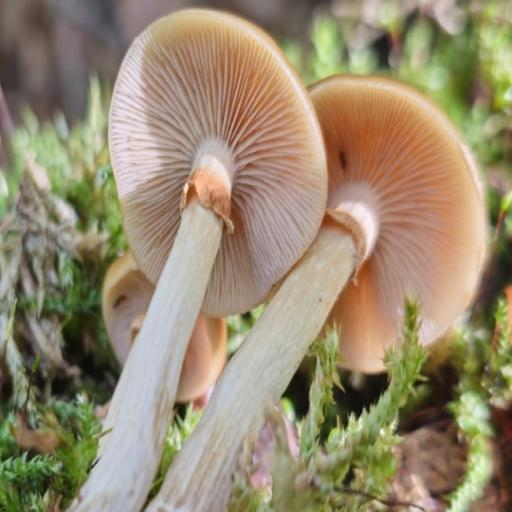mushroom: (87, 2, 492, 421)
